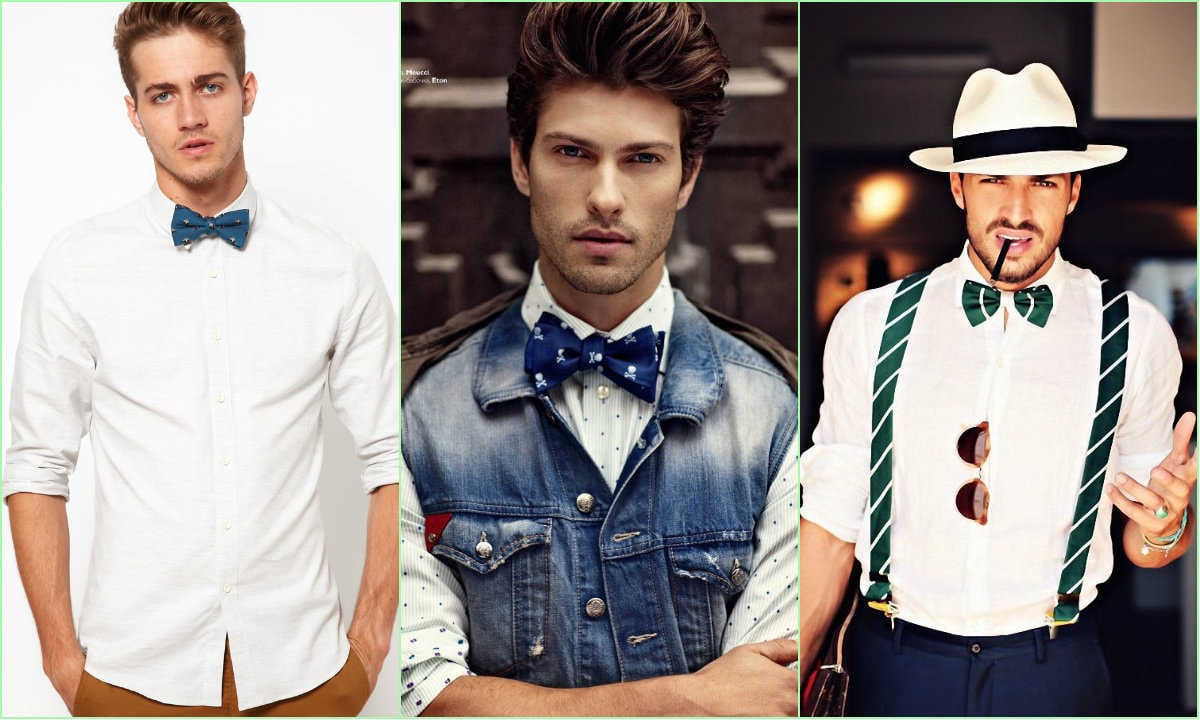bow: (510, 306, 680, 406), (955, 267, 1055, 330), (166, 204, 264, 257)
